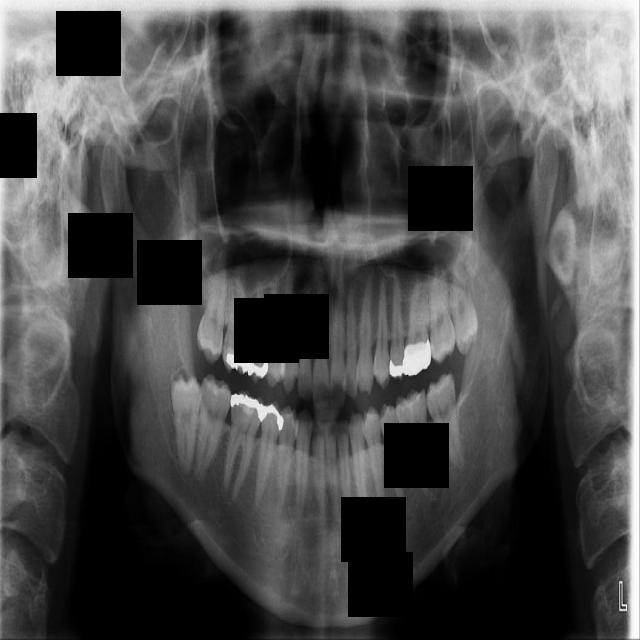52: (230, 390, 263, 441), (222, 319, 251, 375), (402, 340, 432, 376), (247, 341, 269, 384), (261, 400, 284, 439), (389, 338, 408, 381)
73: (597, 591, 604, 610)
BioHorizons Implant: (430, 264, 456, 366)
BioLife Implant: (451, 258, 479, 355)
Blue Sky Bio Implant: (422, 371, 466, 474)
Caries: (195, 243, 231, 365)
Implant: (193, 373, 233, 478)
Keystone Dental Implant: (171, 375, 202, 475)
